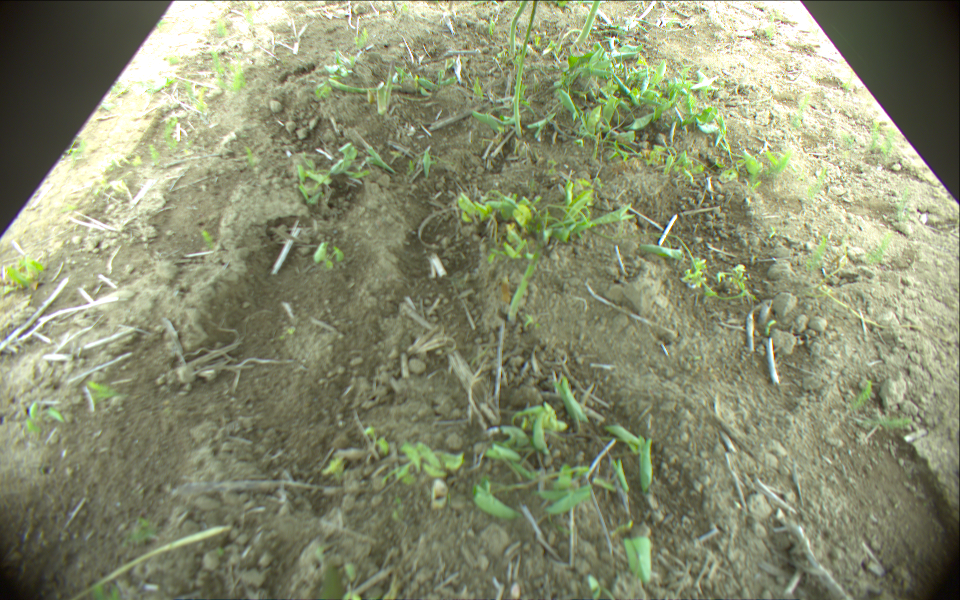aspa: (507, 216, 549, 328), (514, 1, 539, 136), (573, 1, 600, 49), (510, 1, 529, 53), (328, 79, 398, 93), (376, 80, 384, 116)
